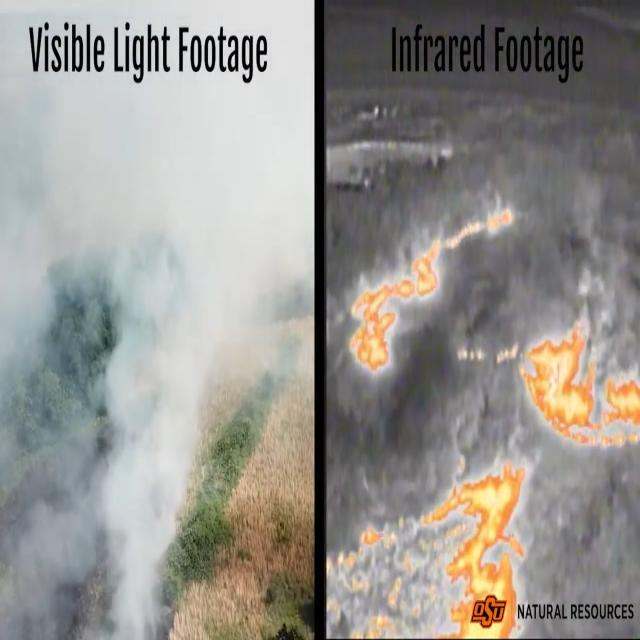fire: (328, 462, 528, 640), (519, 316, 640, 451), (349, 241, 442, 378), (447, 197, 523, 255)
